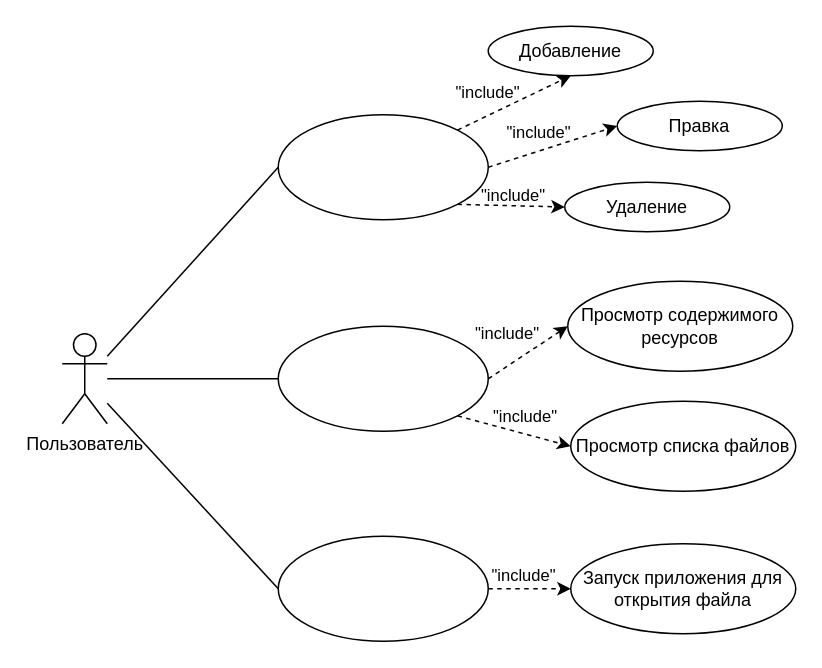
Some shapes in this 822 by 668 pixel diagram are drawn without their labels. Each missing label, with the centre of its shape:
"Открытие файлов" goes at point (382, 588).
"Просмотр ресурсов файловой системы" goes at point (382, 378).
"Управление ресурсами файловой системы" goes at point (382, 166).
